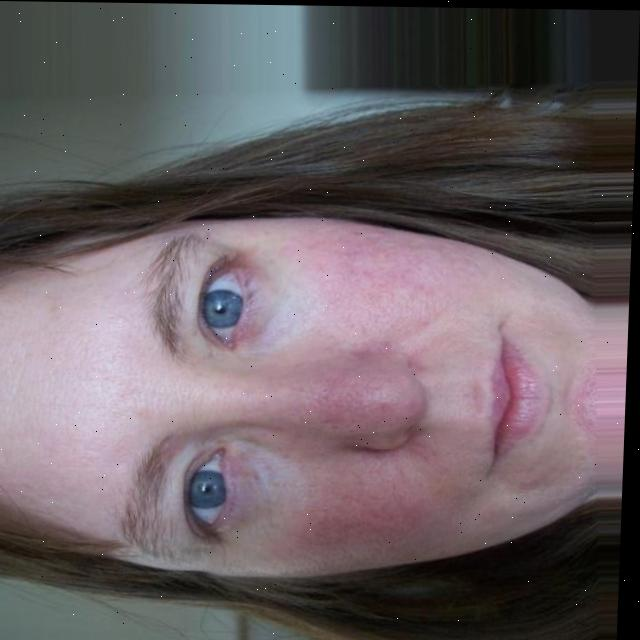Rosacea: (293, 241, 436, 329), (324, 456, 425, 542), (254, 349, 373, 421)
